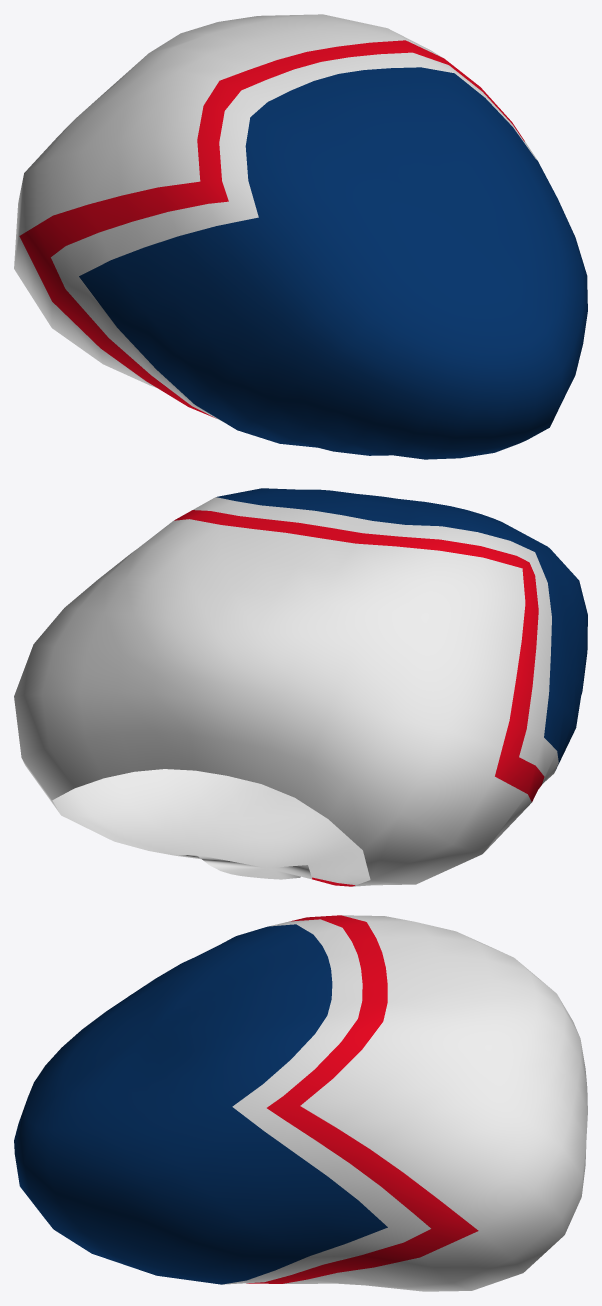
Rendered from ZmeyaHelmet.fbx.
The picture shows the model from 3 angles, top to bottom: view 1: azimuth 30°, elevation 25°; view 2: azimuth 150°, elevation 25°; view 3: azimuth 270°, elevation 25°; orthographic projection. The views are drawn at different scales.
Visible parts, largest first — view 1: Sphere; view 2: Sphere; view 3: Sphere.
Part boxes in pixels (x1=…): Sphere: x1=14, y1=14, x2=587, y2=459; Sphere: x1=14, y1=488, x2=587, y2=886; Sphere: x1=14, y1=915, x2=587, y2=1291.
Size of the model in its own units: 729 by 474 by 864.
